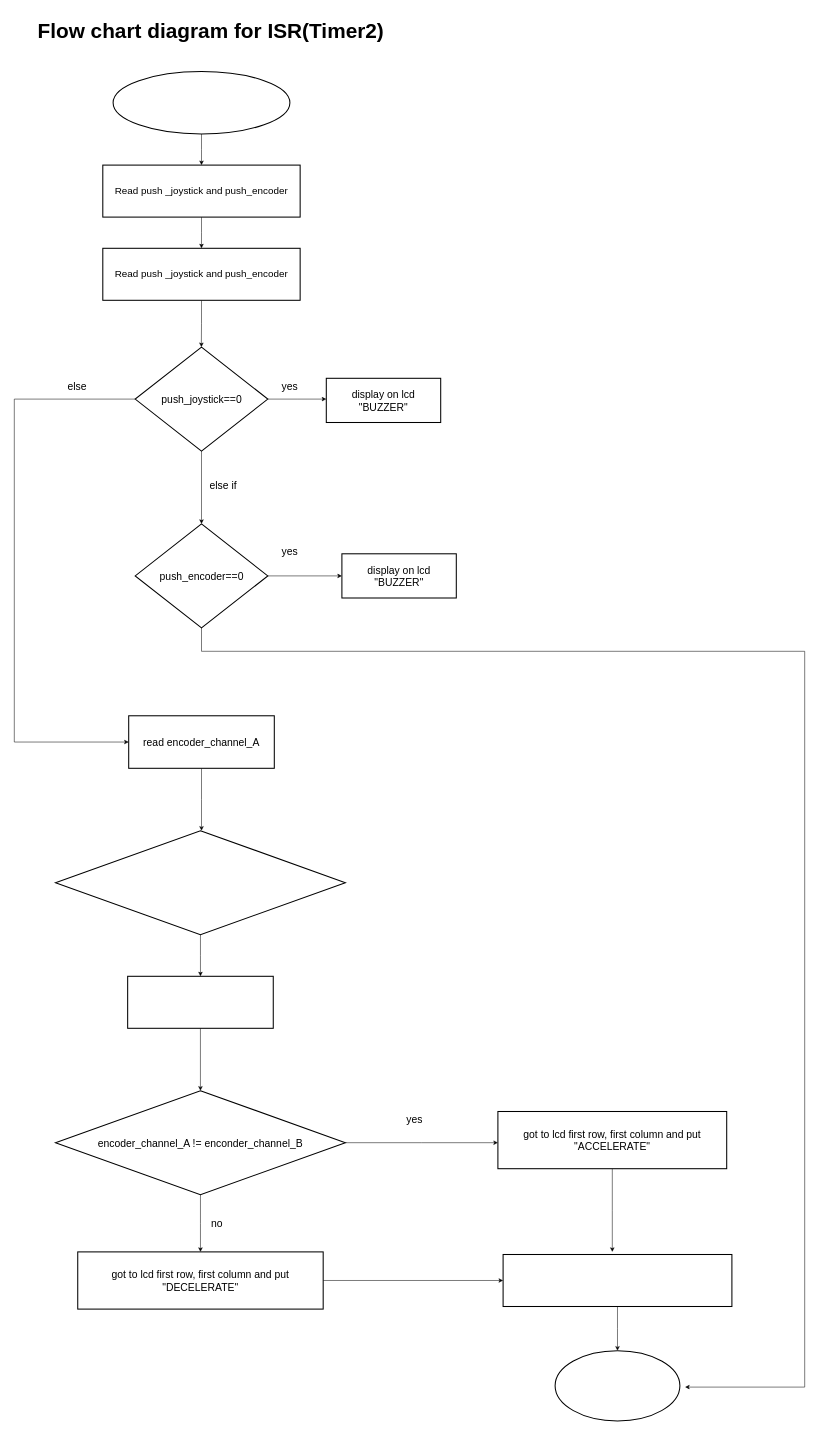
This 818x1430 diagram has some shape labels left out. Here are the shapes that lost their labels. From the top down, the centre of each, then its label:
pixel 201 102: START
pixel 200 882: encoder_channel_A != last_enconder_channel_A
pixel 200 1002: clear lcd screen read encoder_channel_B
pixel 617 1280: last_encoder_channel_A=encoder_channel_A
pixel 617 1385: END
